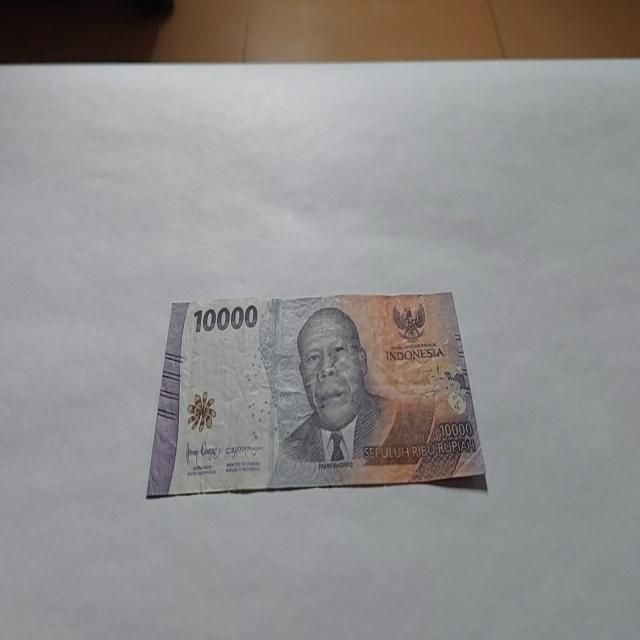sepuluh ribu rupiah: (145, 290, 487, 498)
